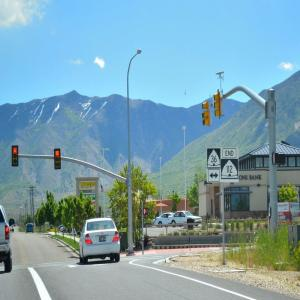Vehicle-registration-plate: (100, 237, 107, 243)
